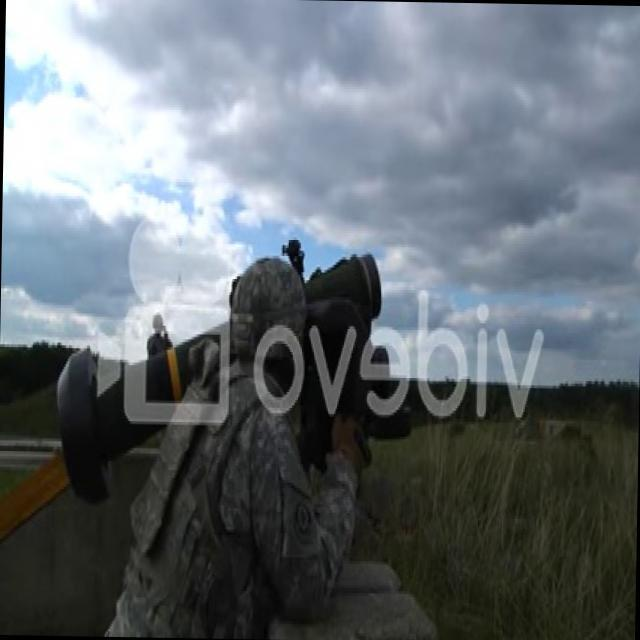rocket: (56, 252, 377, 496)
